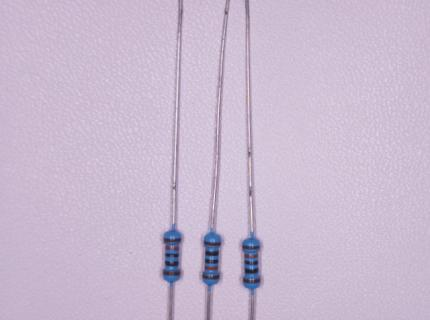Black band: (166, 253, 179, 258), (165, 261, 178, 266), (245, 261, 258, 265), (206, 251, 218, 255), (205, 260, 218, 263), (245, 270, 258, 273)
Brown band: (164, 271, 180, 276), (243, 279, 261, 283), (164, 238, 181, 242), (204, 241, 221, 245), (203, 275, 219, 279), (243, 246, 259, 249)
Orange band: (166, 246, 179, 250), (205, 266, 218, 270), (245, 254, 257, 258)
